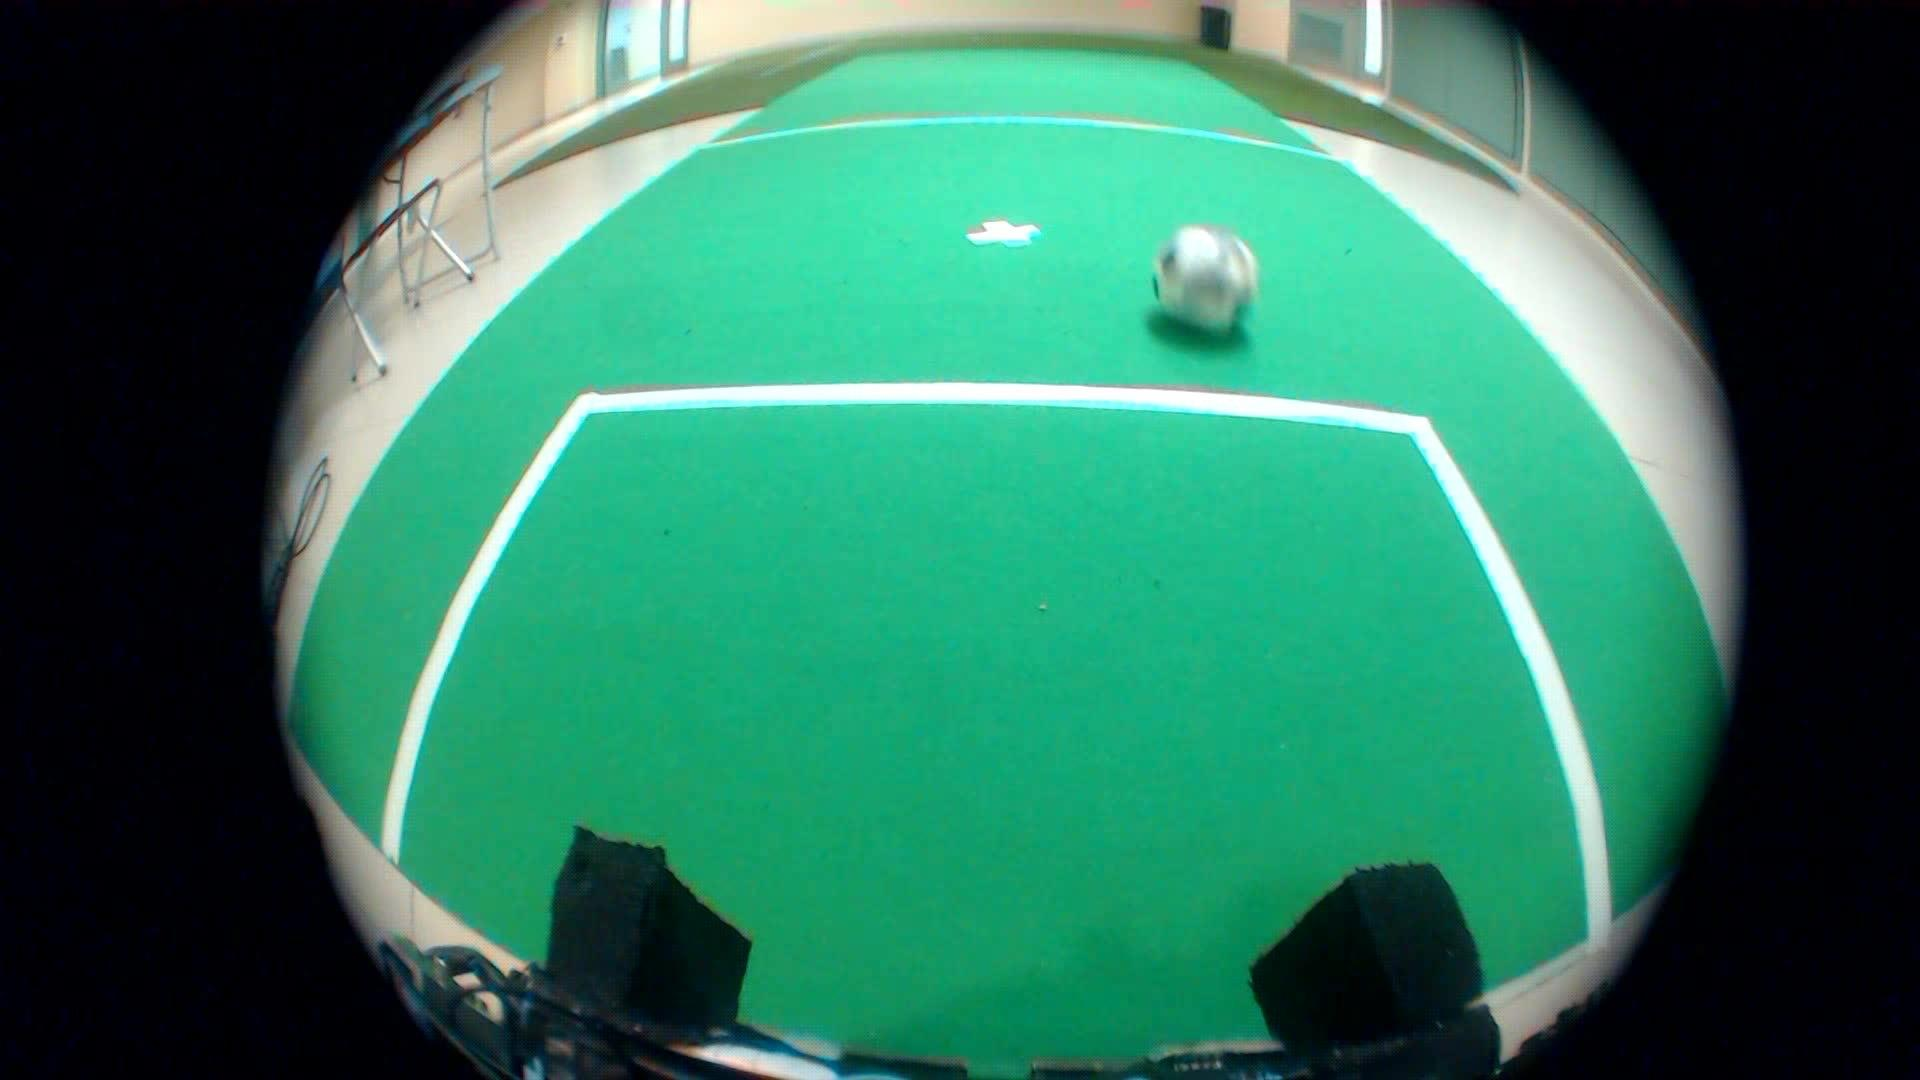ball: (1121, 204, 1286, 359)
